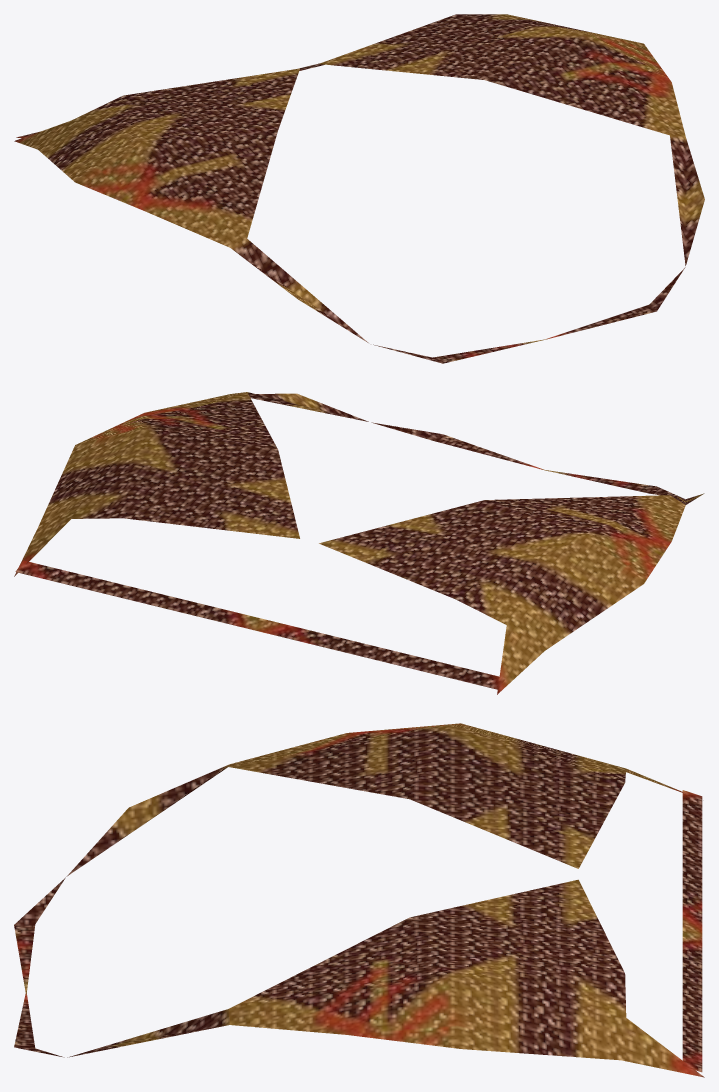
Rendered from bikini.gltf.
3 renders of one model, top to bottom at view 1: azimuth 30°, elevation 25°; view 2: azimuth 150°, elevation 25°; view 3: azimuth 270°, elevation 25°, orthographic. The views are drawn at different scales.
Visible parts, largest first — view 1: stringTop; view 2: stringTop; view 3: stringTop, PanelsBack.
Boxes of the visible parts, x1,y1,x2,y2 form: stringTop: (14,14,704,363); stringTop: (14,392,704,694); stringTop: (14,723,704,1077); PanelsBack: (69,768,685,1057).
Bounding box in the file's own units: 0.3579 × 0.072 × 0.3208.
Materials: 3 (3 with a texture image).
